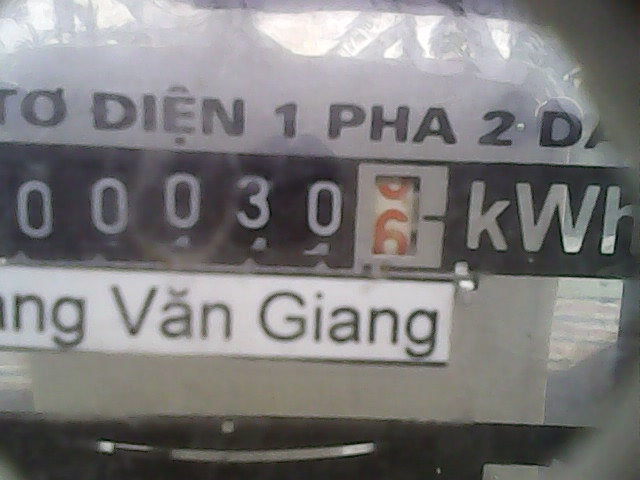phy_plate: (5, 144, 454, 288)
